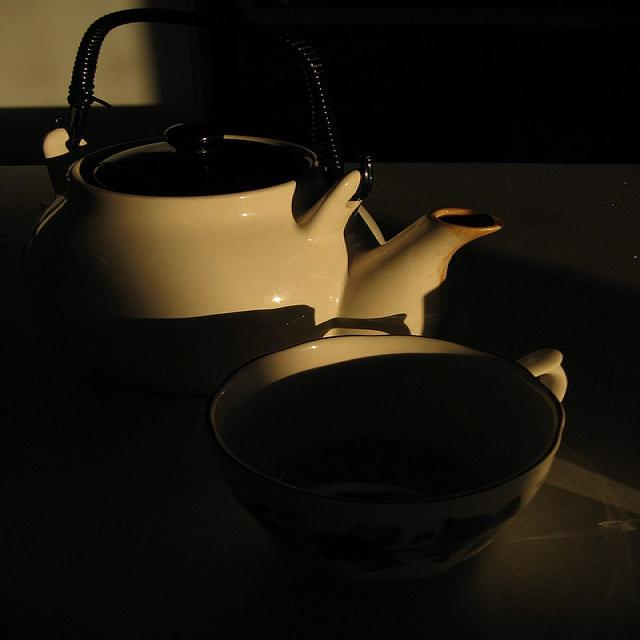Cup: (182, 334, 584, 586), (8, 123, 447, 321)
Table: (0, 112, 640, 640)
